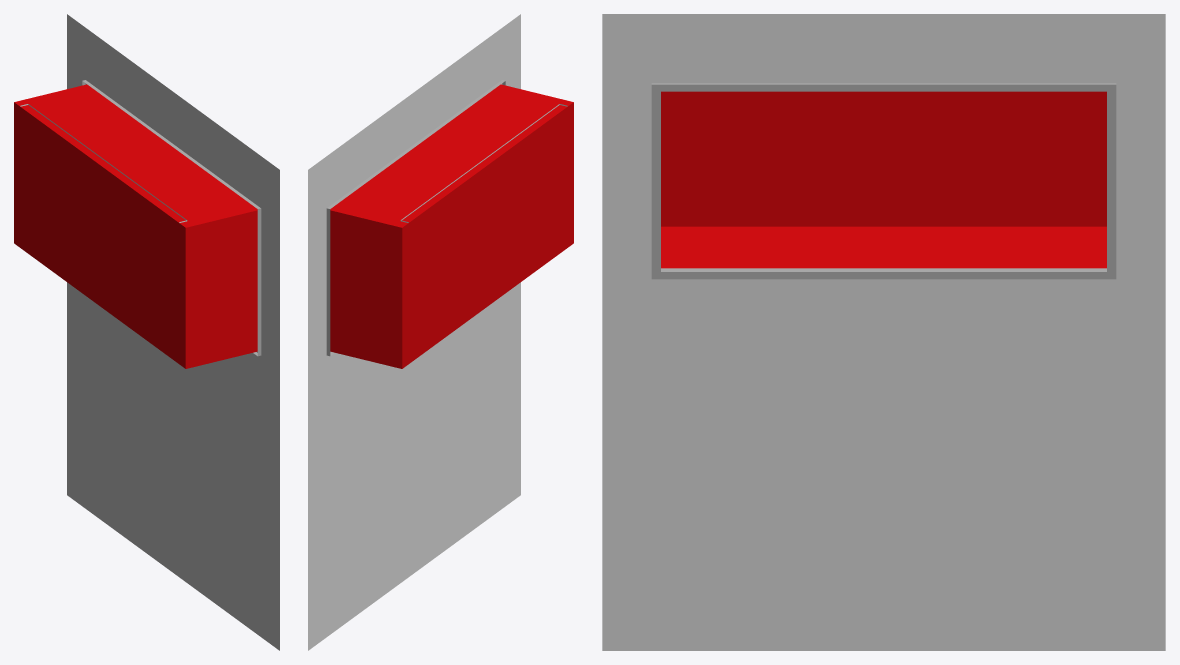
File: TestBake.fbx
3 renders of one model, left to right at view 1: azimuth 30°, elevation 25°; view 2: azimuth 150°, elevation 25°; view 3: azimuth 270°, elevation 25°, orthographic. The views are drawn at different scales.
Visible parts, largest first — view 1: Room.001; view 2: Room.001; view 3: Room.001.
Part boxes in pixels (bbox=[...]): Room.001: bbox=[14, 14, 279, 650]; Room.001: bbox=[308, 14, 573, 650]; Room.001: bbox=[602, 14, 1165, 650].
Size of the model in its own units: 98.52 by 599 by 481.
